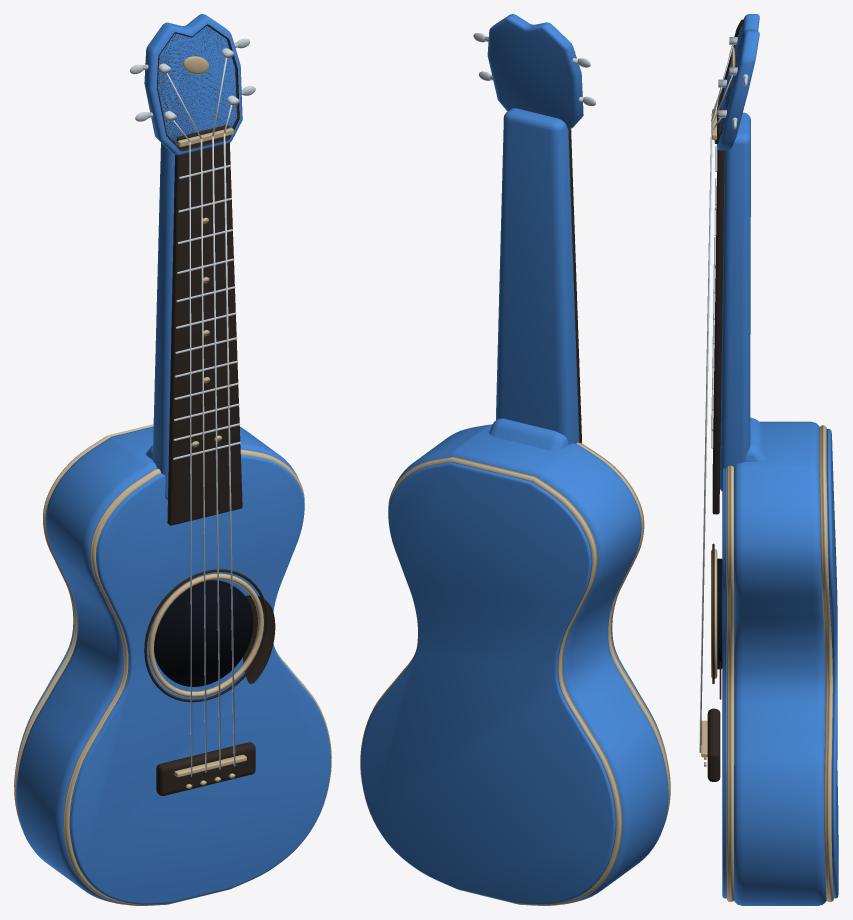
Rendered from ukulele.glb.
3 views of the same model, side by side, from view 1: azimuth 30°, elevation 25°; view 2: azimuth 150°, elevation 25°; view 3: azimuth 270°, elevation 25° (orthographic). The views are drawn at different scales.
Parts seen in each view (by area): view 1: TKA_Ukulele_Soundboard, TKA_Ukulele_BodyShell, TKA_Ukulele_Fretboard, TKA_Ukulele_Headstock, TKA_Ukulele_SoundHole, TKA_Ukulele_FourStrings, TKA_Ukulele_NeckGrip, TKA_Ukulele_FrontBinding, TKA_Ukulele_Bridge, TKA_Ukulele_HeadstockFace, TKA_Ukulele_RosetteOuter, TKA_Ukulele_Frets (+4 smaller); view 2: TKA_Ukulele_Back, TKA_Ukulele_BodyShell, TKA_Ukulele_NeckGrip, TKA_Ukulele_Headstock, TKA_Ukulele_RearBinding, TKA_Ukulele_FrontBinding, TKA_Ukulele_NeckHeel, TKA_Ukulele_Fretboard; view 3: TKA_Ukulele_BodyShell, TKA_Ukulele_NeckGrip, TKA_Ukulele_RearBinding, TKA_Ukulele_FrontBinding, TKA_Ukulele_Back, TKA_Ukulele_Fretboard, TKA_Ukulele_Headstock, TKA_Ukulele_Soundboard, TKA_Ukulele_FourStrings, TKA_Ukulele_Bridge, TKA_Ukulele_RosetteOuter, TKA_Ukulele_Frets (+5 smaller).
Part boxes in pixels (<box>): TKA_Ukulele_Soundboard: <box>69,454,330,904</box>; TKA_Ukulele_BodyShell: <box>16,426,305,904</box>; TKA_Ukulele_Fretboard: <box>167,125,242,525</box>; TKA_Ukulele_Headstock: <box>144,14,242,155</box>; TKA_Ukulele_SoundHole: <box>154,580,253,686</box>; TKA_Ukulele_FourStrings: <box>166,57,235,776</box>; TKA_Ukulele_NeckGrip: <box>152,143,174,499</box>; TKA_Ukulele_FrontBinding: <box>63,449,331,905</box>; TKA_Ukulele_Bridge: <box>156,742,255,795</box>; TKA_Ukulele_HeadstockFace: <box>157,24,239,151</box>; TKA_Ukulele_RosetteOuter: <box>148,573,263,697</box>; TKA_Ukulele_Frets: <box>173,165,240,459</box>; TKA_Ukulele_Back: <box>361,461,616,904</box>; TKA_Ukulele_BodyShell: <box>386,424,668,904</box>; TKA_Ukulele_NeckGrip: <box>496,108,579,444</box>; TKA_Ukulele_Headstock: <box>487,14,583,129</box>; TKA_Ukulele_RearBinding: <box>360,456,622,905</box>; TKA_Ukulele_FrontBinding: <box>576,442,670,826</box>; TKA_Ukulele_NeckHeel: <box>489,418,568,450</box>; TKA_Ukulele_Fretboard: <box>568,129,581,443</box>; TKA_Ukulele_BodyShell: <box>734,421,826,905</box>; TKA_Ukulele_NeckGrip: <box>720,112,750,491</box>; TKA_Ukulele_RearBinding: <box>819,425,833,901</box>; TKA_Ukulele_FrontBinding: <box>726,465,734,902</box>; TKA_Ukulele_Back: <box>826,428,838,898</box>; TKA_Ukulele_Fretboard: <box>712,108,724,514</box>; TKA_Ukulele_Headstock: <box>717,14,759,150</box>; TKA_Ukulele_Soundboard: <box>722,468,726,898</box>; TKA_Ukulele_FourStrings: <box>699,45,733,752</box>; TKA_Ukulele_Bridge: <box>707,708,720,781</box>; TKA_Ukulele_RosetteOuter: <box>711,549,717,678</box>; TKA_Ukulele_Frets: <box>711,146,717,448</box>.
Bounding box in the file's own units: 0.1715 × 0.5302 × 0.077.
